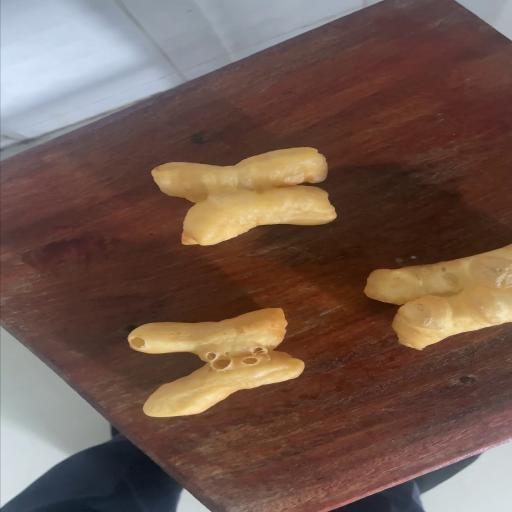street_golden_defect: (125, 309, 305, 416), (361, 246, 512, 348)
street_golden_good: (152, 147, 336, 244)
